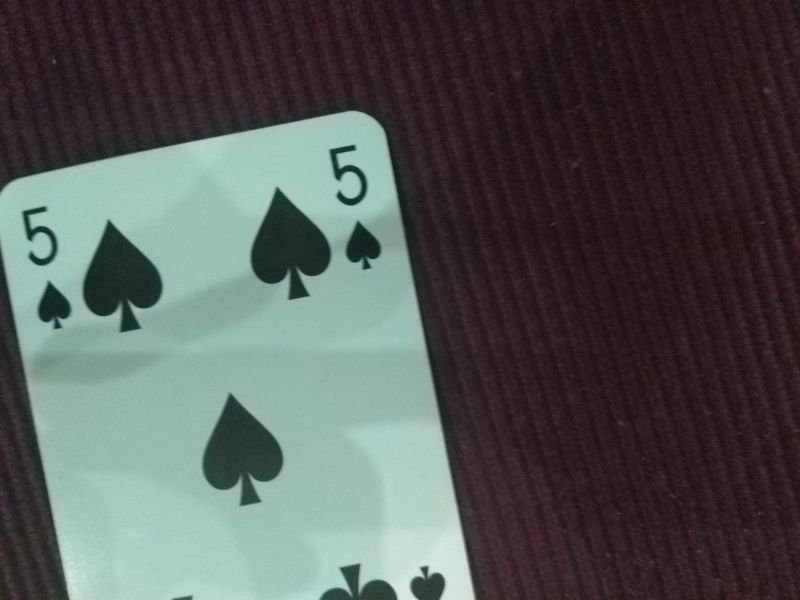5s: (323, 139, 388, 274), (15, 201, 78, 335)
